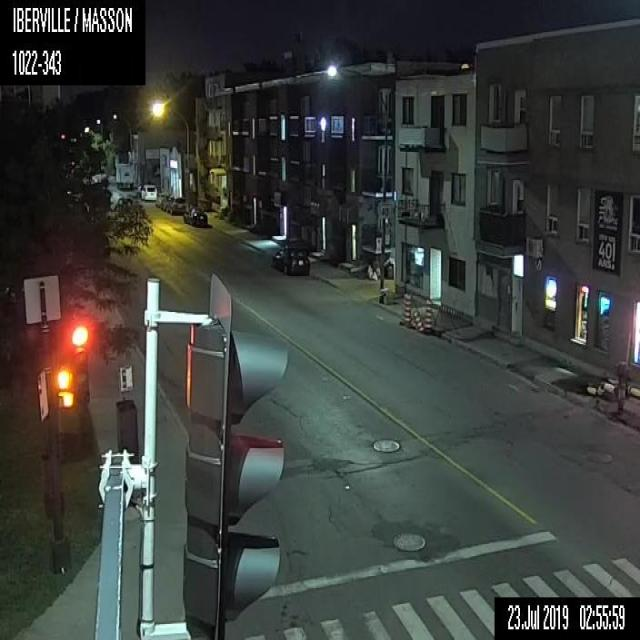construction: (551, 361, 626, 411), (398, 290, 412, 324), (423, 298, 433, 331), (412, 307, 422, 330)
vehicle: (271, 240, 311, 276), (182, 205, 207, 225), (115, 162, 133, 189), (165, 196, 185, 214), (140, 183, 156, 200), (154, 192, 167, 206), (160, 196, 170, 210)
